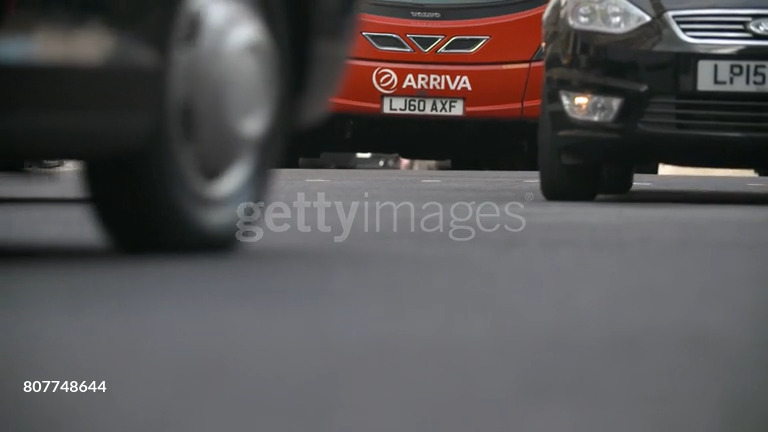car number: (695, 60, 766, 89), (381, 95, 463, 115)
